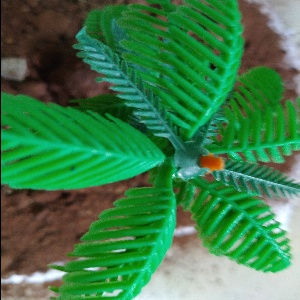plant: (11, 13, 300, 263)
